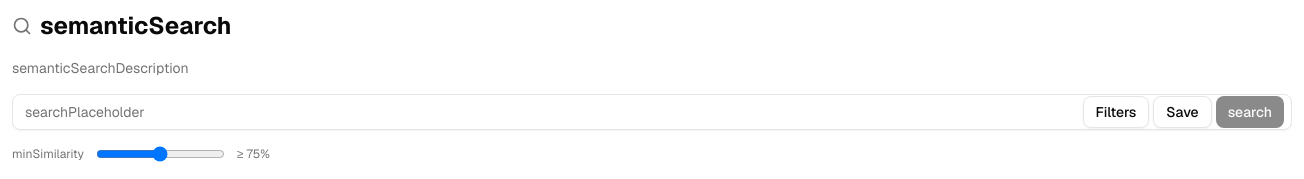
Test: SearchBar › Loading State › disables search button during search
In the field with placeholder "searchPlaceholder": (652, 112) [12,94,1292,130], type "test"
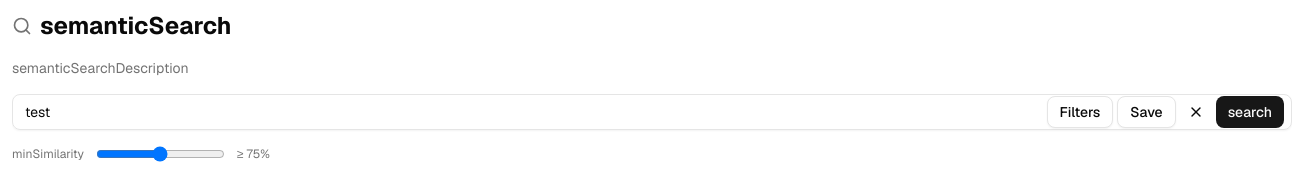
Click the button "search": click(1250, 112) [1216,96,1284,128]
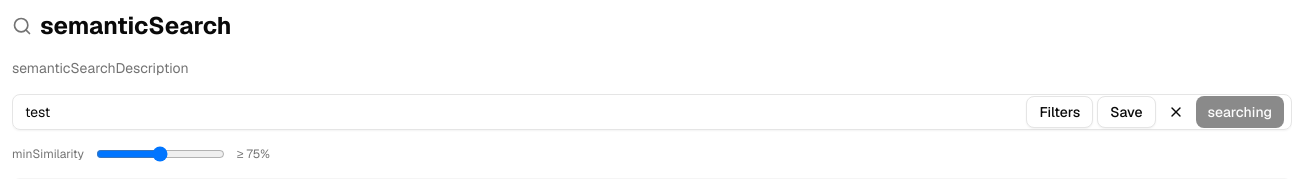
Result: the button "searching" is disabled at [1196,96,1284,128]
